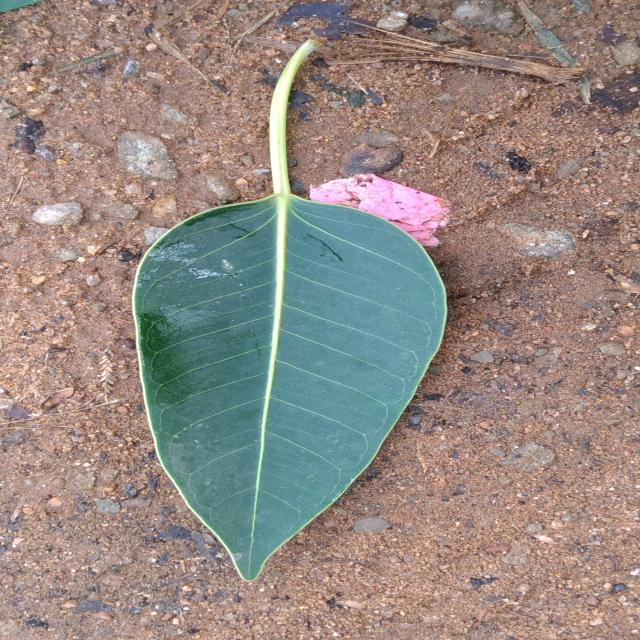camphor: (136, 191, 444, 580)
